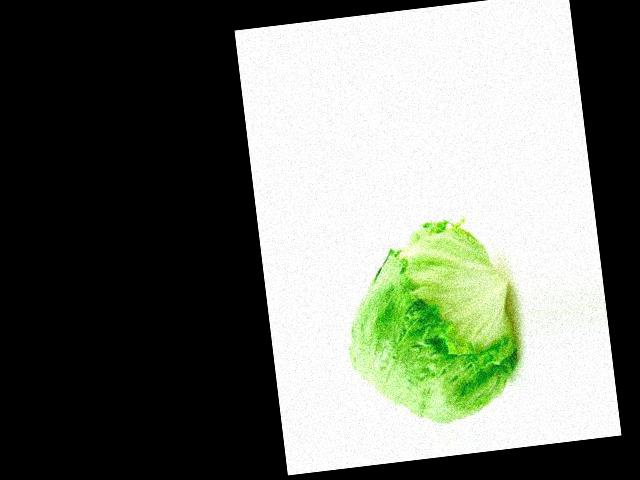lettuce: (292, 148, 454, 242)
